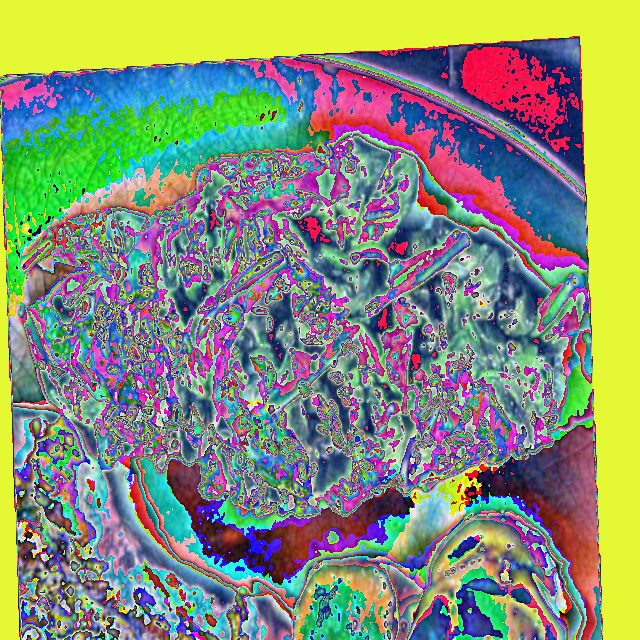background: (13, 133, 589, 639)
